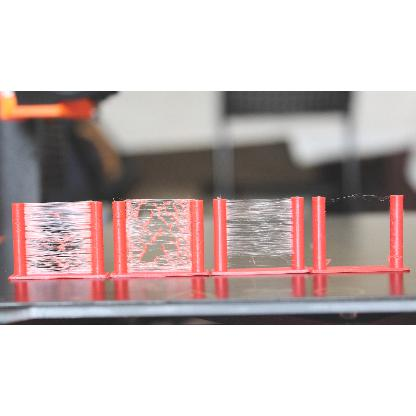fail: (224, 198, 296, 264), (28, 202, 90, 270), (130, 197, 190, 267), (325, 192, 387, 209)
